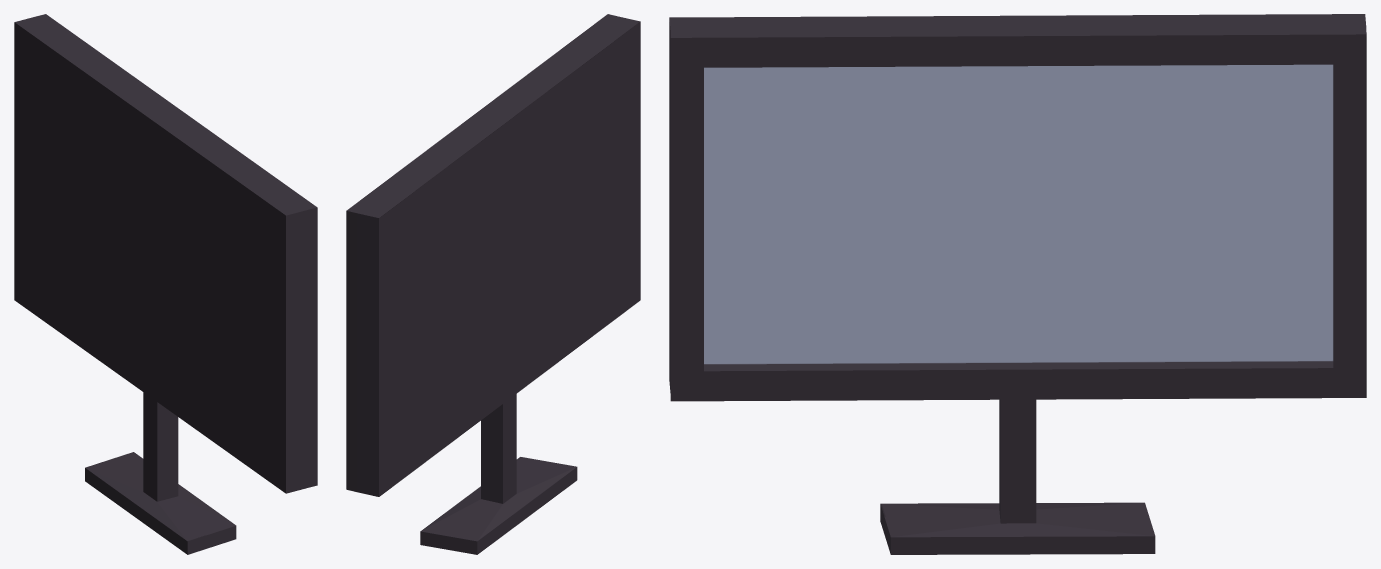
Rendered from Monitor.fbx.
3 renders of one model, left to right at view 1: azimuth 30°, elevation 25°; view 2: azimuth 150°, elevation 25°; view 3: azimuth 270°, elevation 25°, orthographic. The views are drawn at different scales.
Parts seen in each view (by area): view 1: Monitor; view 2: Monitor; view 3: Monitor.
Boxes of the visible parts, bbox=[...] form: Monitor: bbox=[14, 14, 317, 554]; Monitor: bbox=[346, 14, 640, 554]; Monitor: bbox=[669, 14, 1366, 554].
Bounding box in the file's own units: 19.13 × 133 × 163.
1 material, 1 textured.
